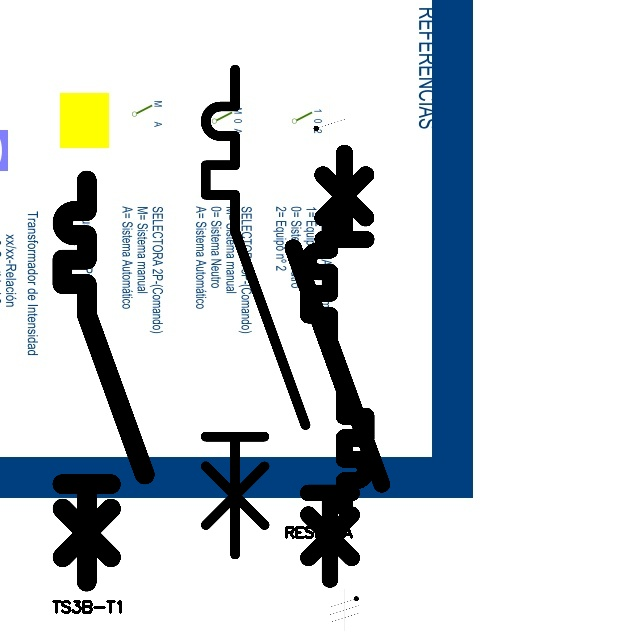interruptor_termomagnetico: (193, 57, 318, 567), (52, 170, 155, 592), (299, 214, 390, 589), (284, 144, 375, 517)
